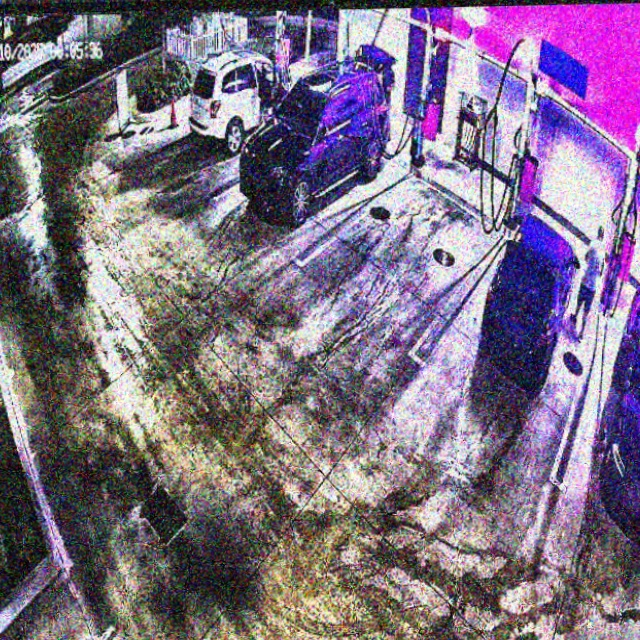Car: (237, 40, 394, 224), (482, 212, 582, 388)
